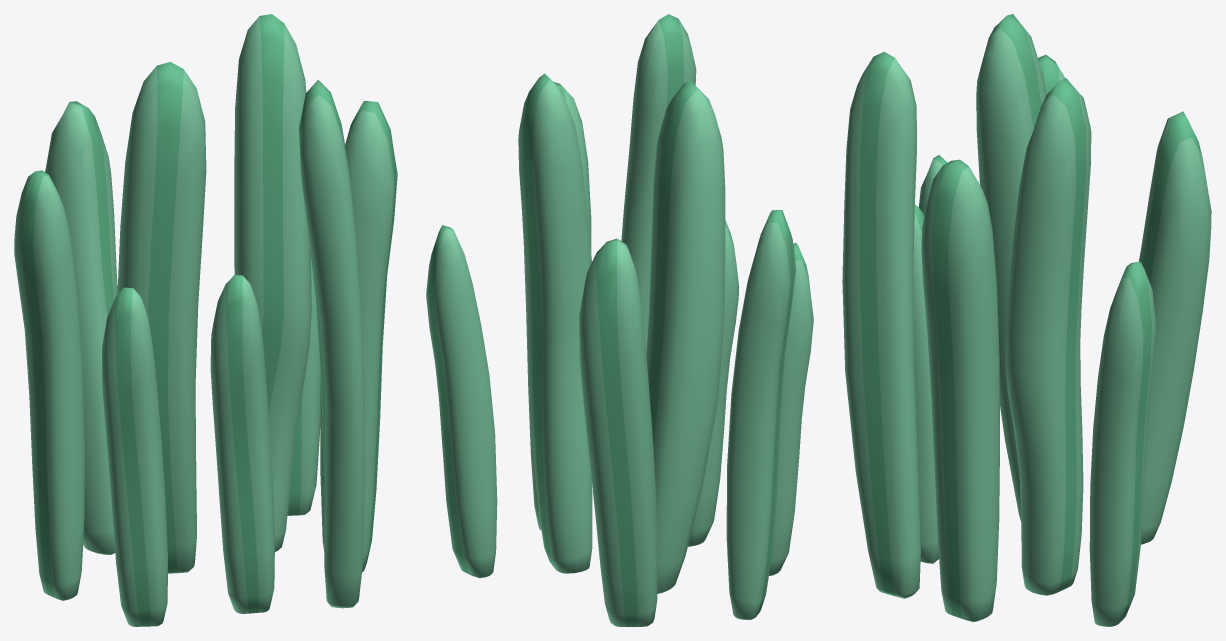
The model's file is Seaweed_A_03.fbx.
3 views of the same model, side by side, from view 1: azimuth 30°, elevation 25°; view 2: azimuth 150°, elevation 25°; view 3: azimuth 270°, elevation 25° (orthographic). The views are drawn at different scales.
Parts seen in each view (by area): view 1: Seaweed_A_03_LOD0; view 2: Seaweed_A_03_LOD0; view 3: Seaweed_A_03_LOD0.
Boxes of the visible parts, x1=… form: Seaweed_A_03_LOD0: x1=14, y1=14, x2=397, y2=626; Seaweed_A_03_LOD0: x1=426, y1=14, x2=813, y2=626; Seaweed_A_03_LOD0: x1=842, y1=14, x2=1211, y2=626.
Size of what is drawn, in the model's own units: 450 by 665 by 421.
